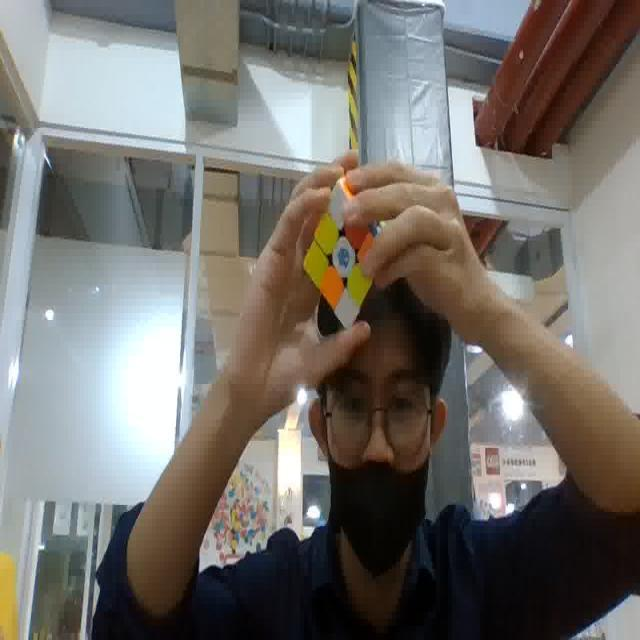Rub: (303, 173, 387, 328)
